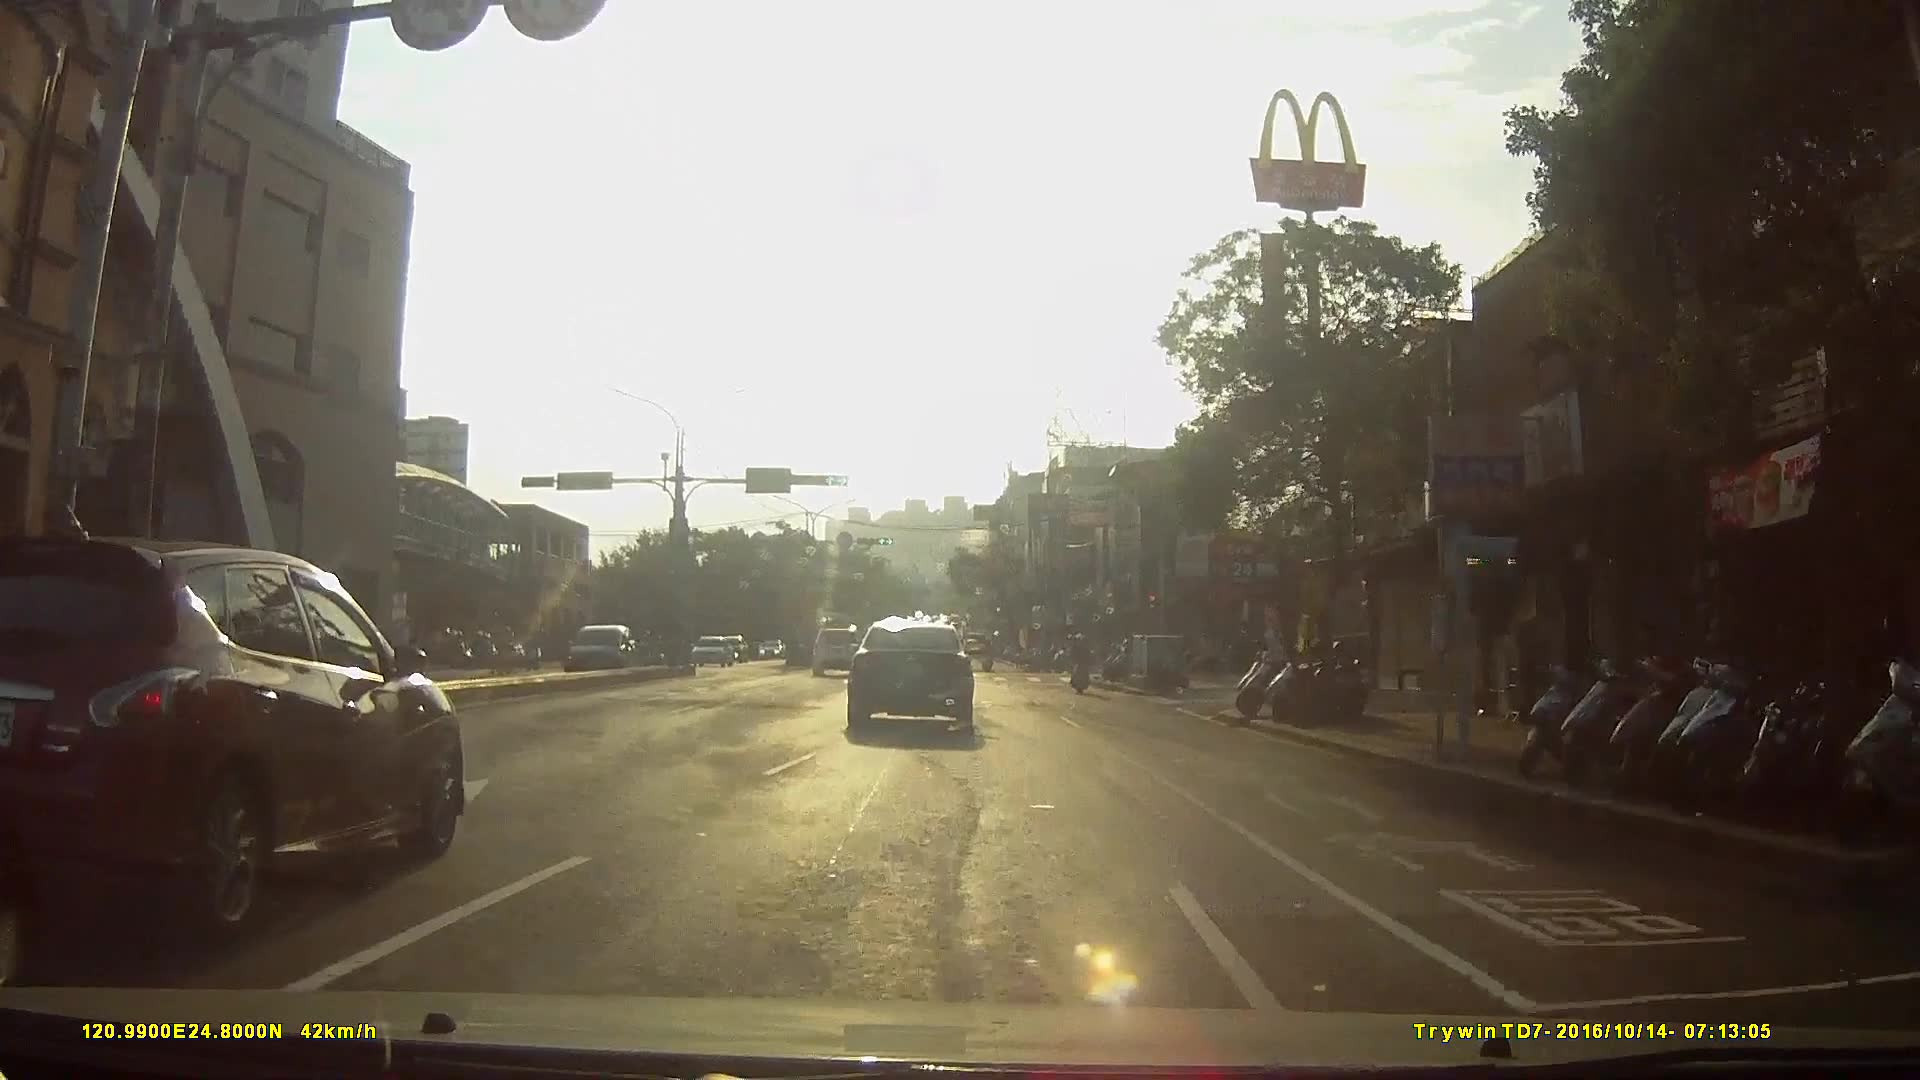rider: (1070, 627, 1096, 694), (977, 637, 998, 676)
vehicle: (1, 525, 476, 944), (844, 610, 990, 734), (555, 621, 646, 681), (808, 622, 865, 677), (687, 630, 736, 669), (708, 632, 752, 663)
